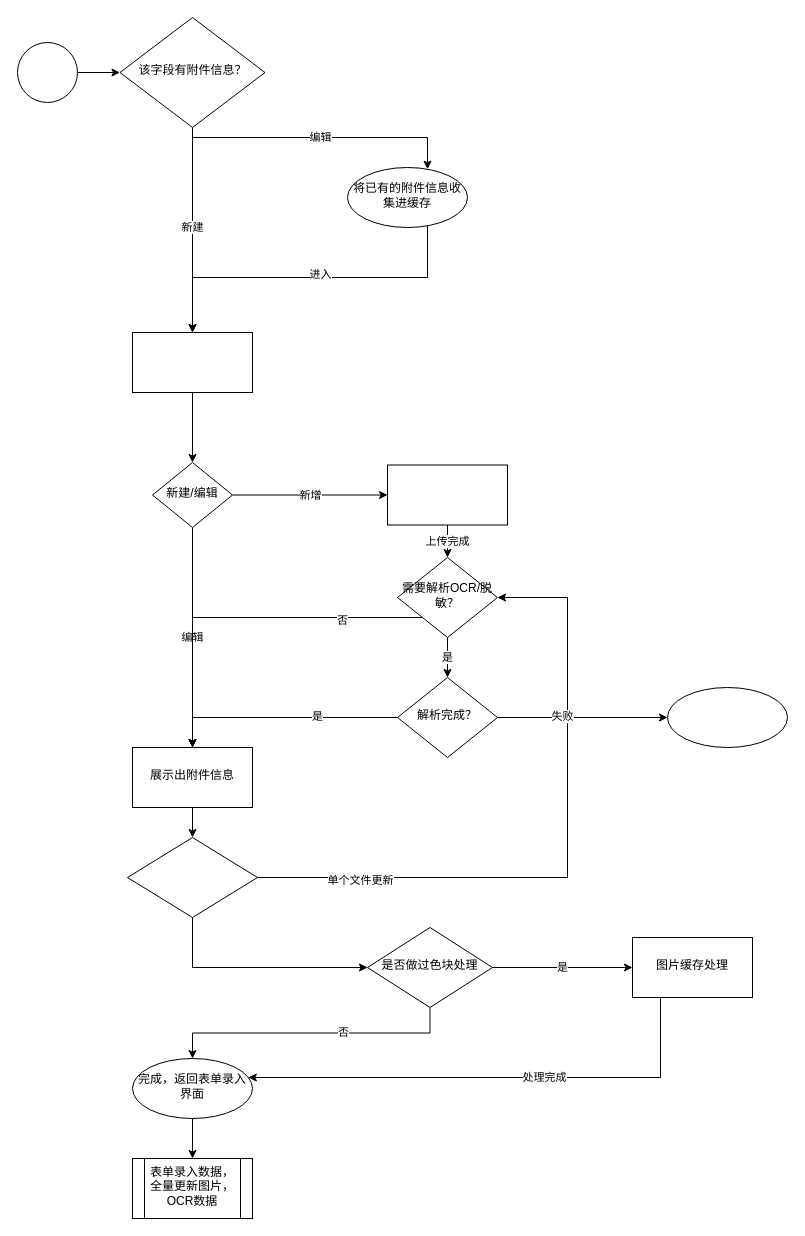
Some shapes in this 805 by 1236 pixel diagram are drawn without their labels. The box of each missing label's shape, as (x1, y1, x2, y2) in pixels:
是否重新上传附件: (126, 836, 258, 918)
进入附件管理页面: (132, 332, 252, 392)
错误退出: (666, 686, 788, 748)
附件上传: (386, 464, 508, 525)
附件管理开始: (16, 42, 78, 102)
